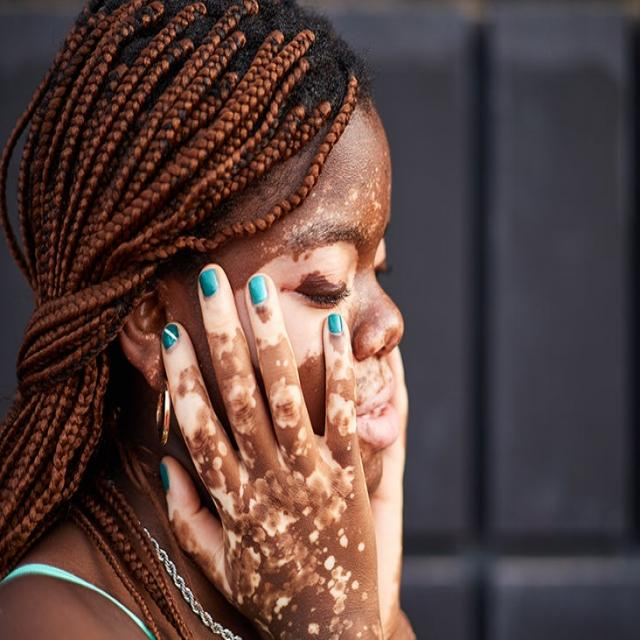vitiligo: (168, 235, 402, 639)
